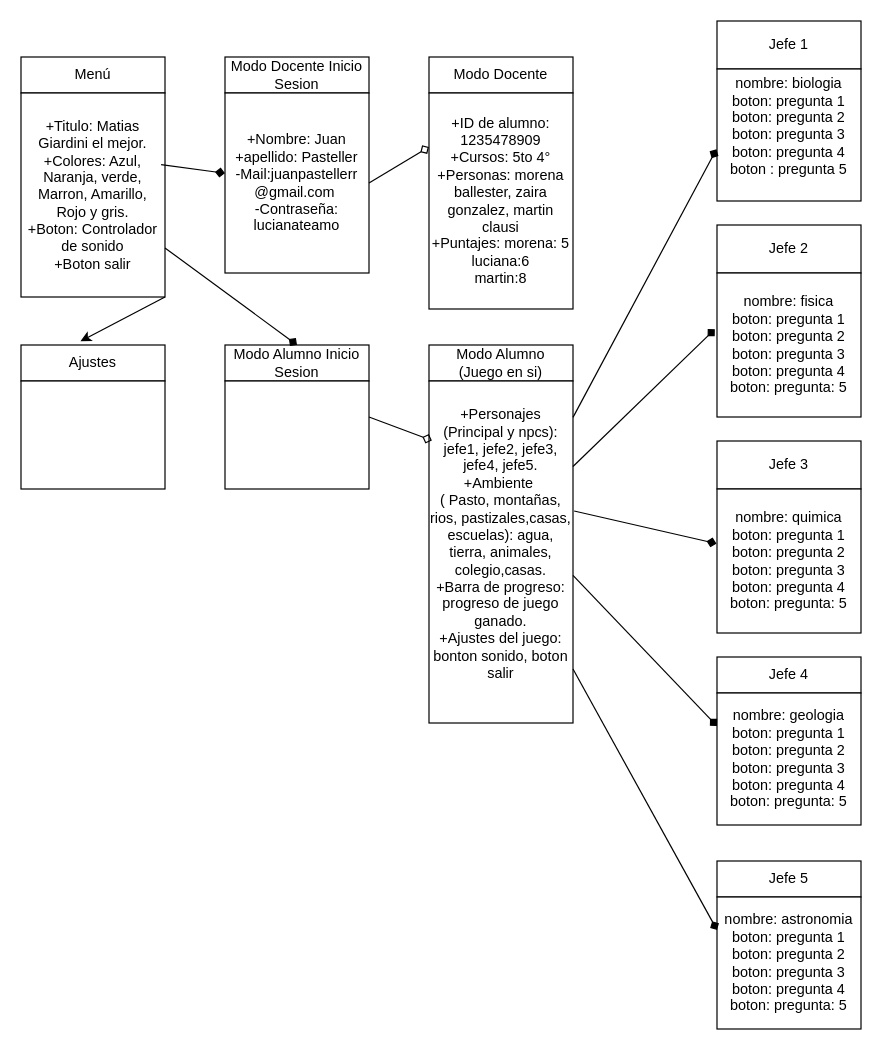
This 882x1050 diagram has some shape labels left out. Each missing label, with the centre of its shape:
+Cuenta de Google: luligonnzaalez @gmail.com: point (296, 434)
+Nombre: Zaira +apellido: Gonzalez +Edad: 15 +Curso: 5to 2°: point (92, 434)
